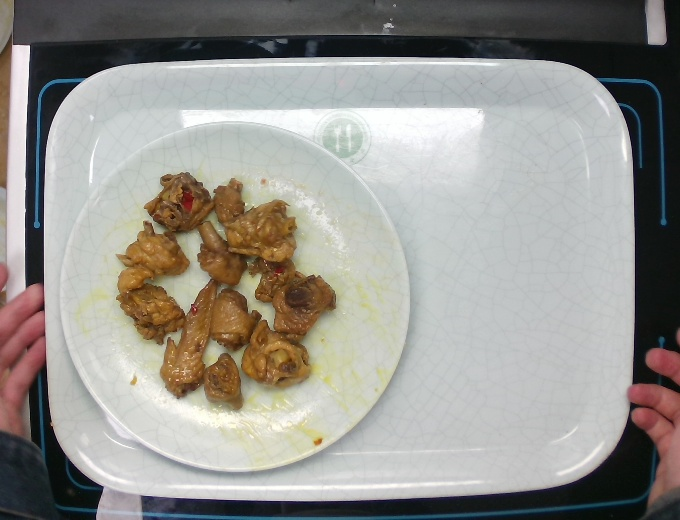JYsf-Da_Yuan_Pan: (57, 120, 412, 474)
